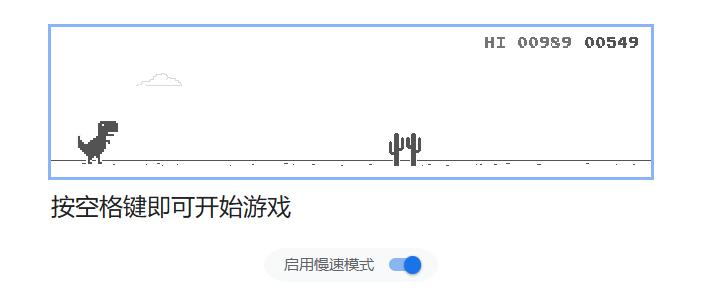cactus: (387, 132, 422, 166)
dino: (75, 120, 119, 165)
